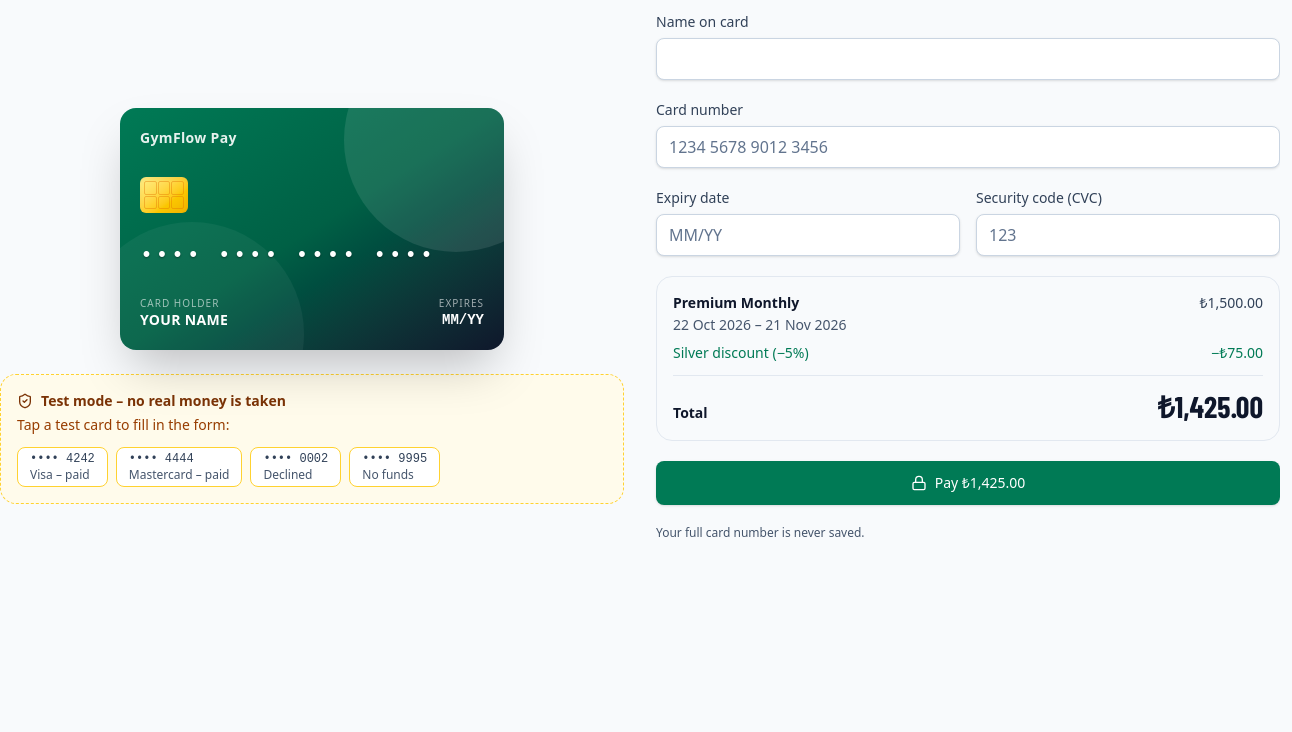
Scenario: CardCheckout › checks the card in the browser first and sends nothing while it is wrong
This screenshot has width=1292, height=732.
In the field labelled "Card number": (968, 147) [656, 126, 1280, 168], type "4242 4242 4242 4241"
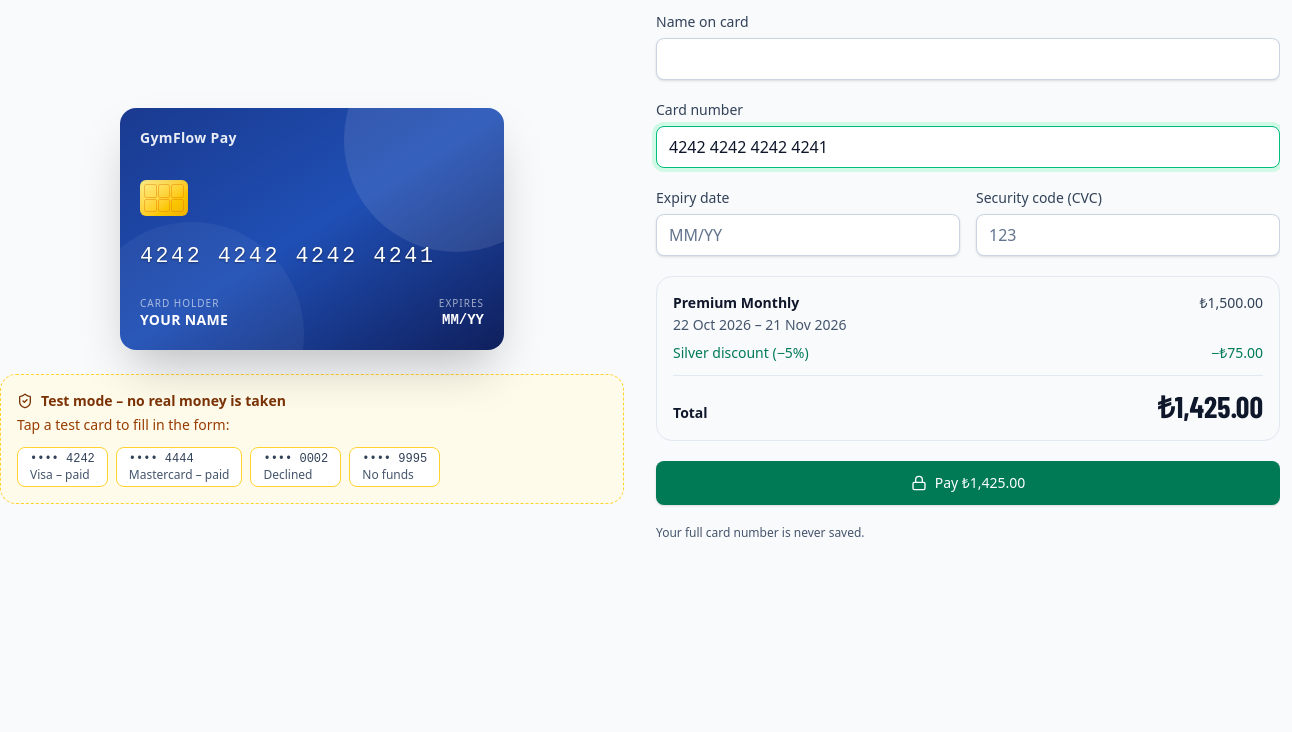
Click the button "Pay ₺1,425.00": (968, 483) [656, 461, 1280, 505]
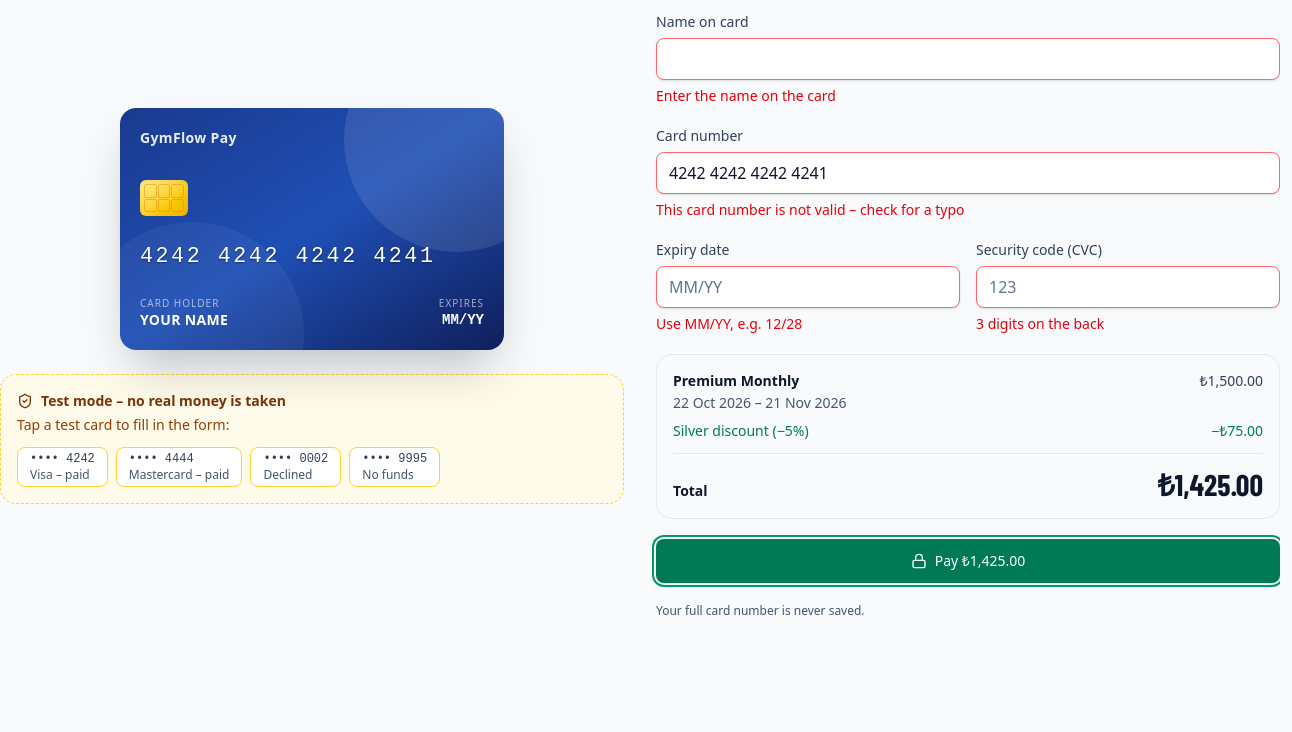
Now the text "Enter the name on the card" is shown, box [656, 86, 836, 105]
Now the text "This card number is not valid – check for a typo" is shown, box [656, 200, 964, 219]
Now the text "Use MM/YY, e.g. 12/28" is shown, box [656, 314, 802, 333]
